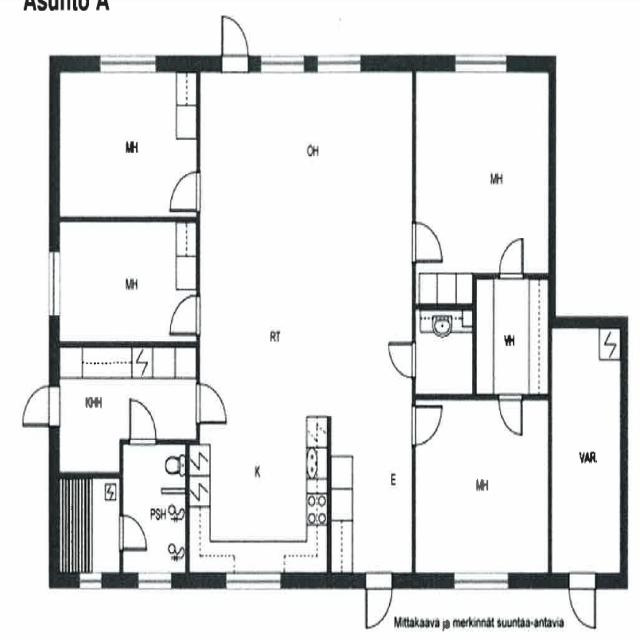door: (23, 386, 60, 425), (365, 572, 391, 626), (222, 19, 247, 72), (570, 572, 594, 626), (412, 222, 442, 262), (170, 172, 200, 210), (170, 295, 200, 333), (412, 406, 441, 443), (196, 384, 224, 421), (131, 402, 155, 444), (500, 236, 523, 278), (118, 515, 146, 549), (389, 342, 416, 377), (499, 393, 522, 433)
